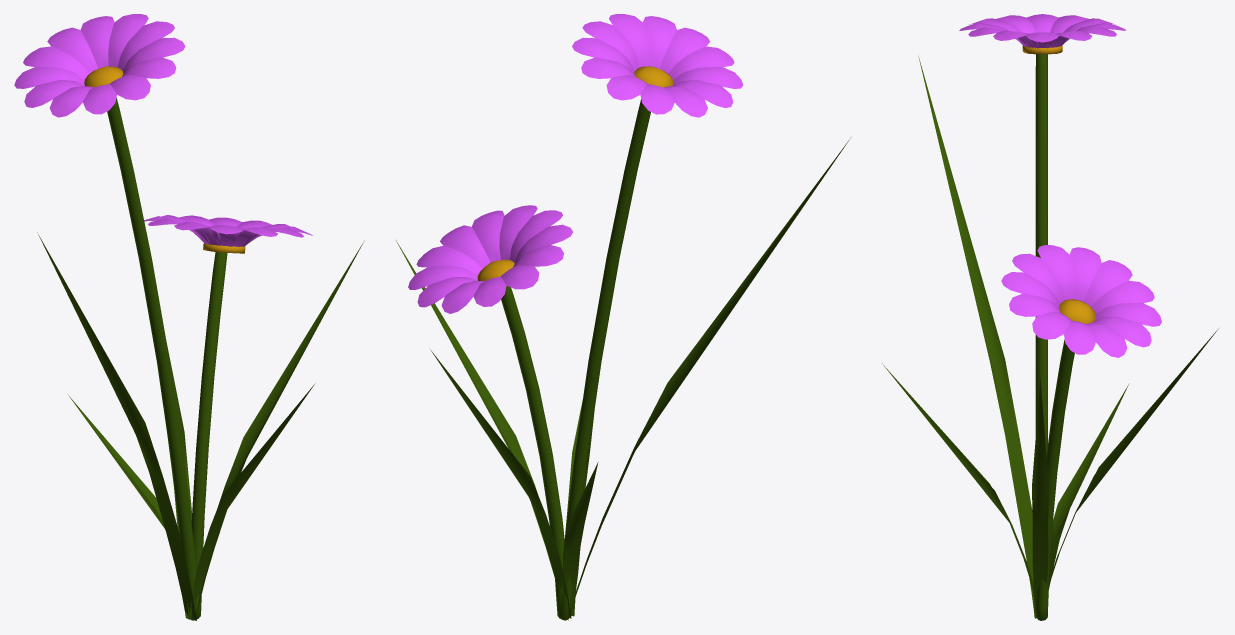
Rendered from Flower.obj.
3 views of the same model, side by side, from view 1: azimuth 30°, elevation 25°; view 2: azimuth 150°, elevation 25°; view 3: azimuth 270°, elevation 25° (orthographic). The views are drawn at different scales.
Visible parts, largest first — view 1: 2FPinkPlant_Plane.084; view 2: 2FPinkPlant_Plane.084; view 3: 2FPinkPlant_Plane.084.
Boxes of the visible parts, <box> form: 2FPinkPlant_Plane.084: <box>14,14,364,620</box>; 2FPinkPlant_Plane.084: <box>396,14,850,620</box>; 2FPinkPlant_Plane.084: <box>882,14,1218,620</box>.
Bounding box in the file's own units: 1.79 × 2.62 × 1.41.
